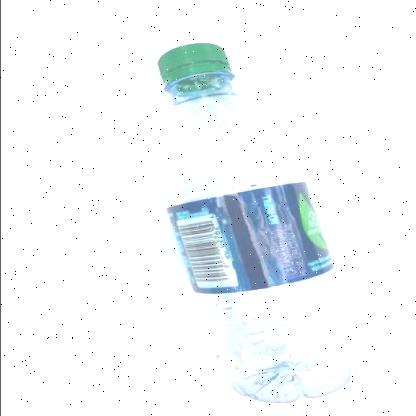Plastic Bottle: (156, 42, 361, 404)
